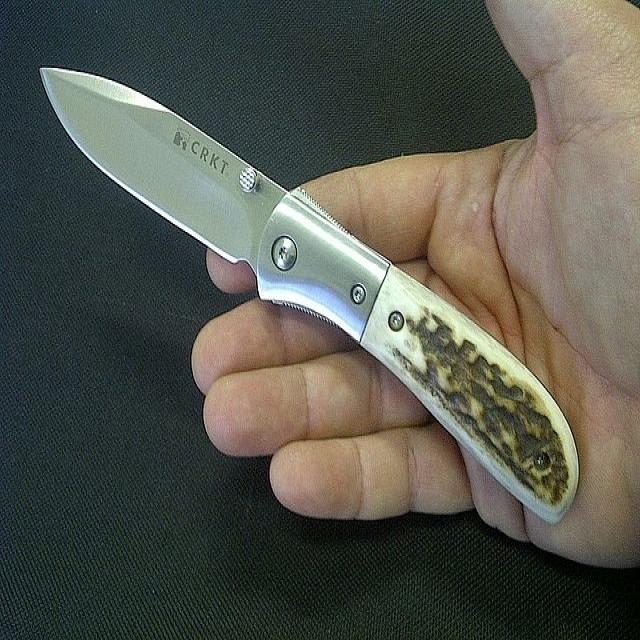knife: (36, 53, 586, 542)
